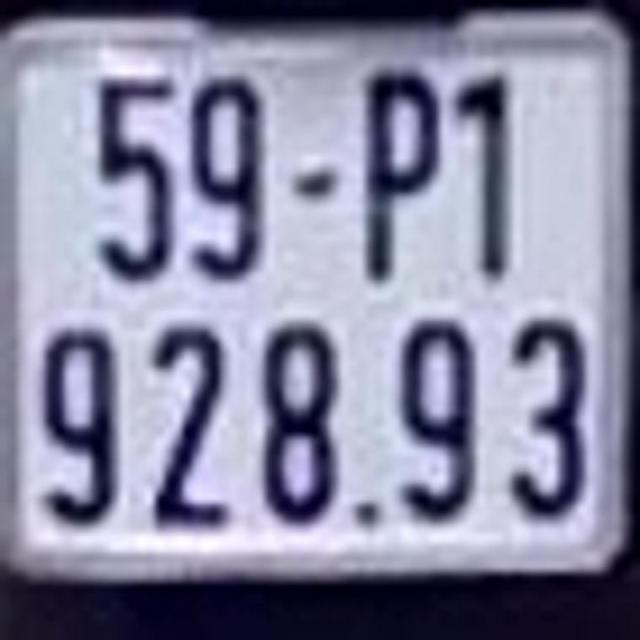1: (445, 48, 535, 290)
2: (142, 307, 235, 543)
3: (507, 295, 591, 524)
5: (80, 62, 179, 286)
8: (251, 298, 346, 529)
9: (181, 56, 275, 293), (36, 314, 126, 538), (403, 301, 485, 530)
P: (345, 48, 442, 290)
